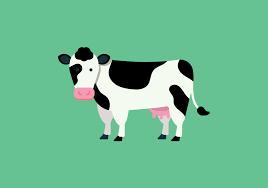cow: (58, 49, 208, 141)
